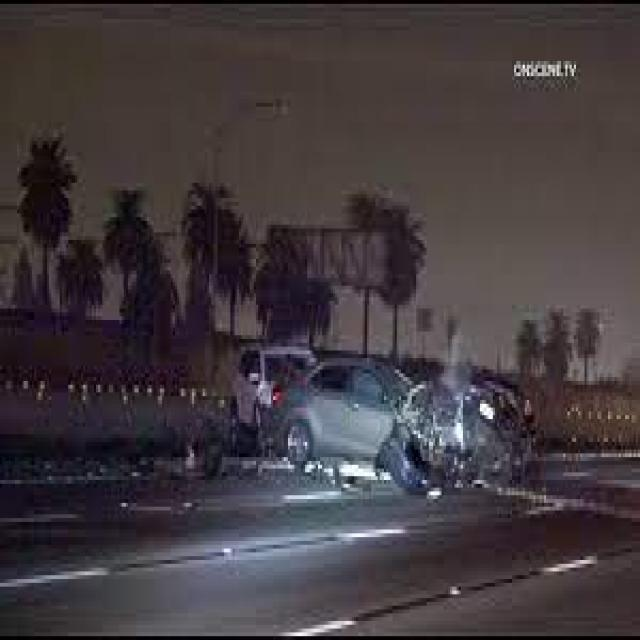accident: (226, 316, 555, 526)
